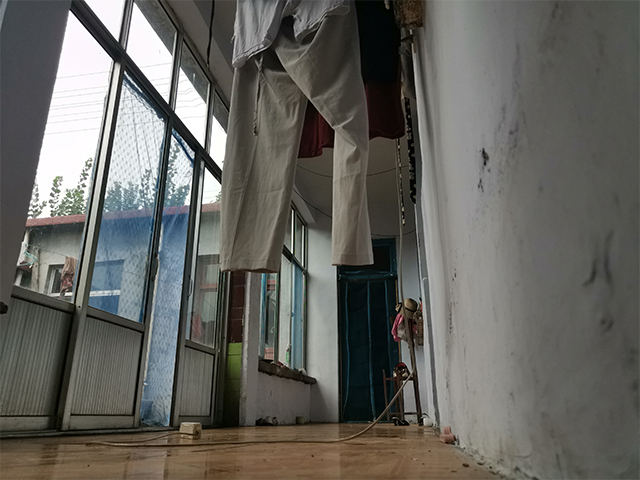wire: (81, 408, 388, 448)
